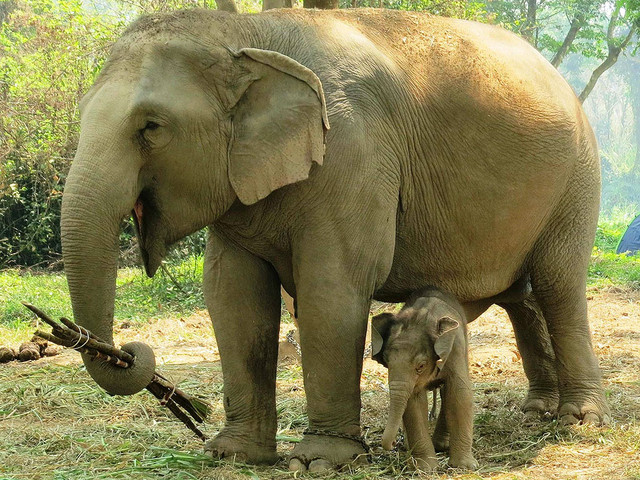elephant: (45, 1, 623, 475), (356, 271, 495, 477)
